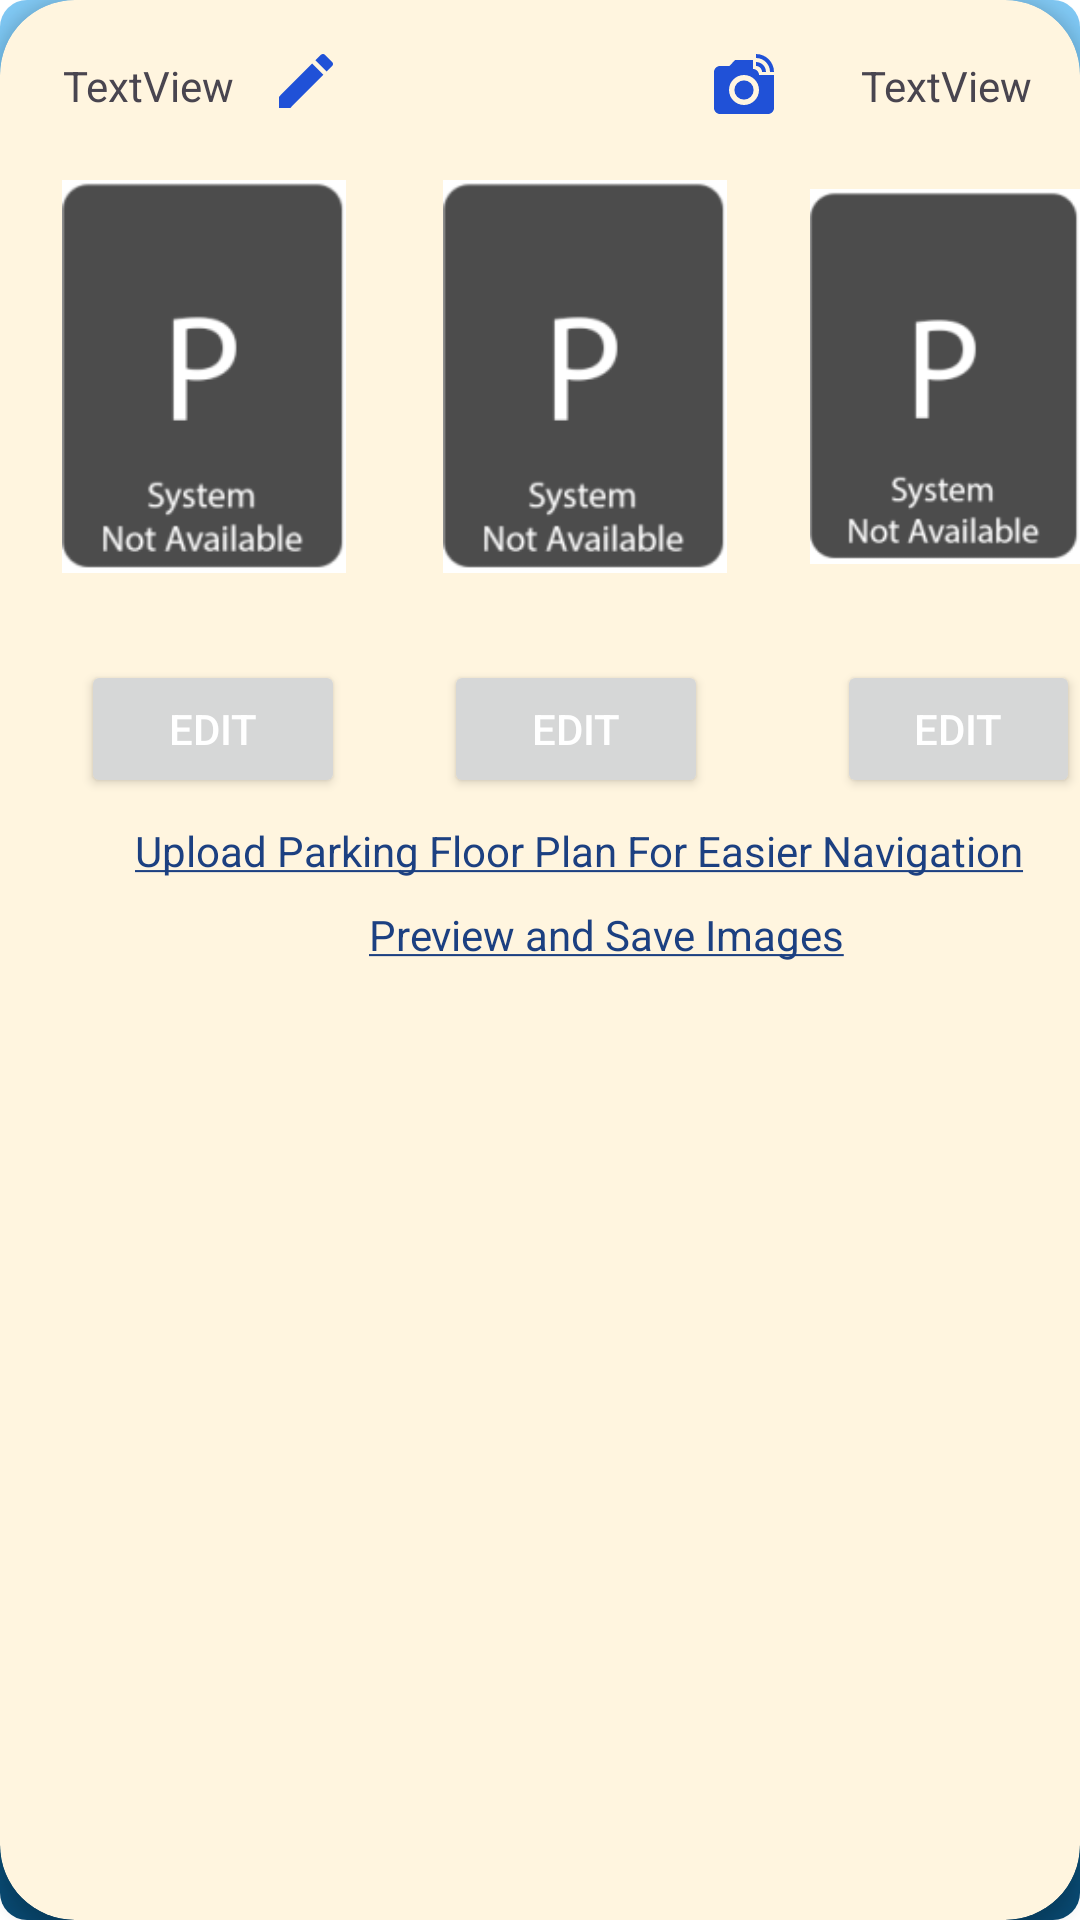

Icons on this 1080*1920 Android screen, each with its box as [x1,y1,x2,y2]:
edit: [279,54,333,108]
linked camera section: [714,54,774,114]
